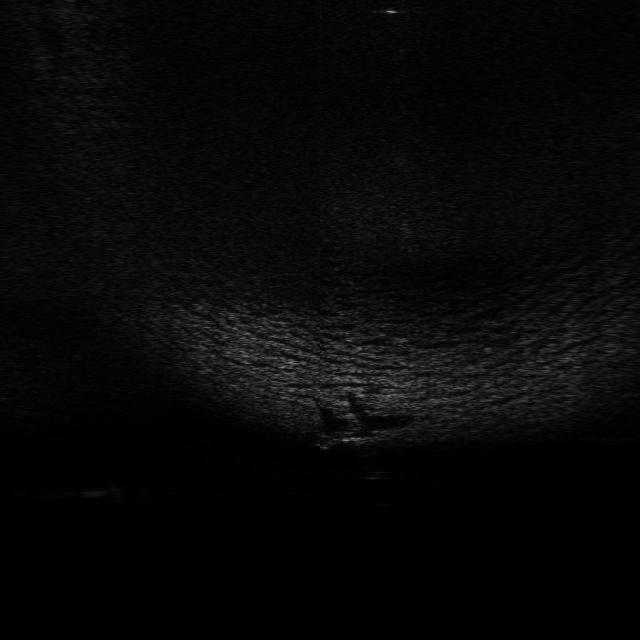plane: (309, 427, 382, 450)
